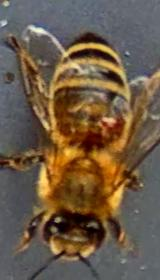varroa_mite: (84, 110, 136, 138)
